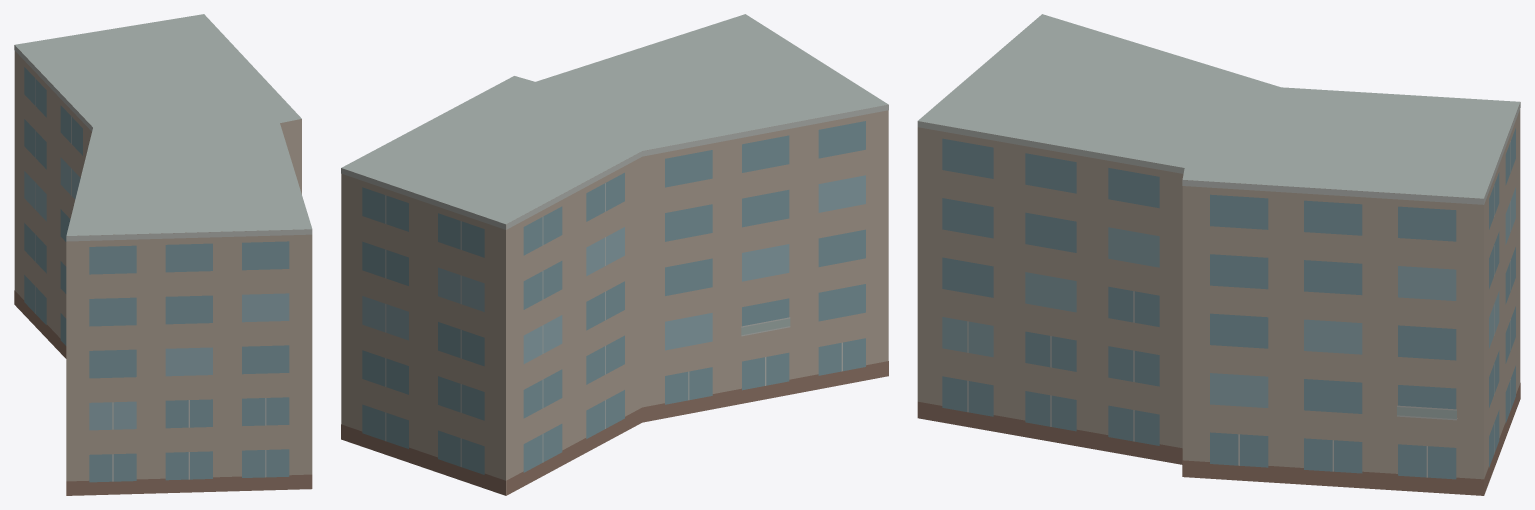
File: survey-upis-32971028.glb
3 views of the same model, side by side, from view 1: azimuth 30°, elevation 25°; view 2: azimuth 150°, elevation 25°; view 3: azimuth 270°, elevation 25° (orthographic). The views are drawn at different scales.
Visible parts, largest first — view 1: survey-upis-32971028.tmp; view 2: survey-upis-32971028.tmp; view 3: survey-upis-32971028.tmp.
Part boxes in pixels (bbox=[...]): survey-upis-32971028.tmp: bbox=[14, 14, 312, 495]; survey-upis-32971028.tmp: bbox=[341, 14, 888, 495]; survey-upis-32971028.tmp: bbox=[917, 14, 1520, 495].
Size of the model in its own units: 15.67 by 11.75 by 21.61.
